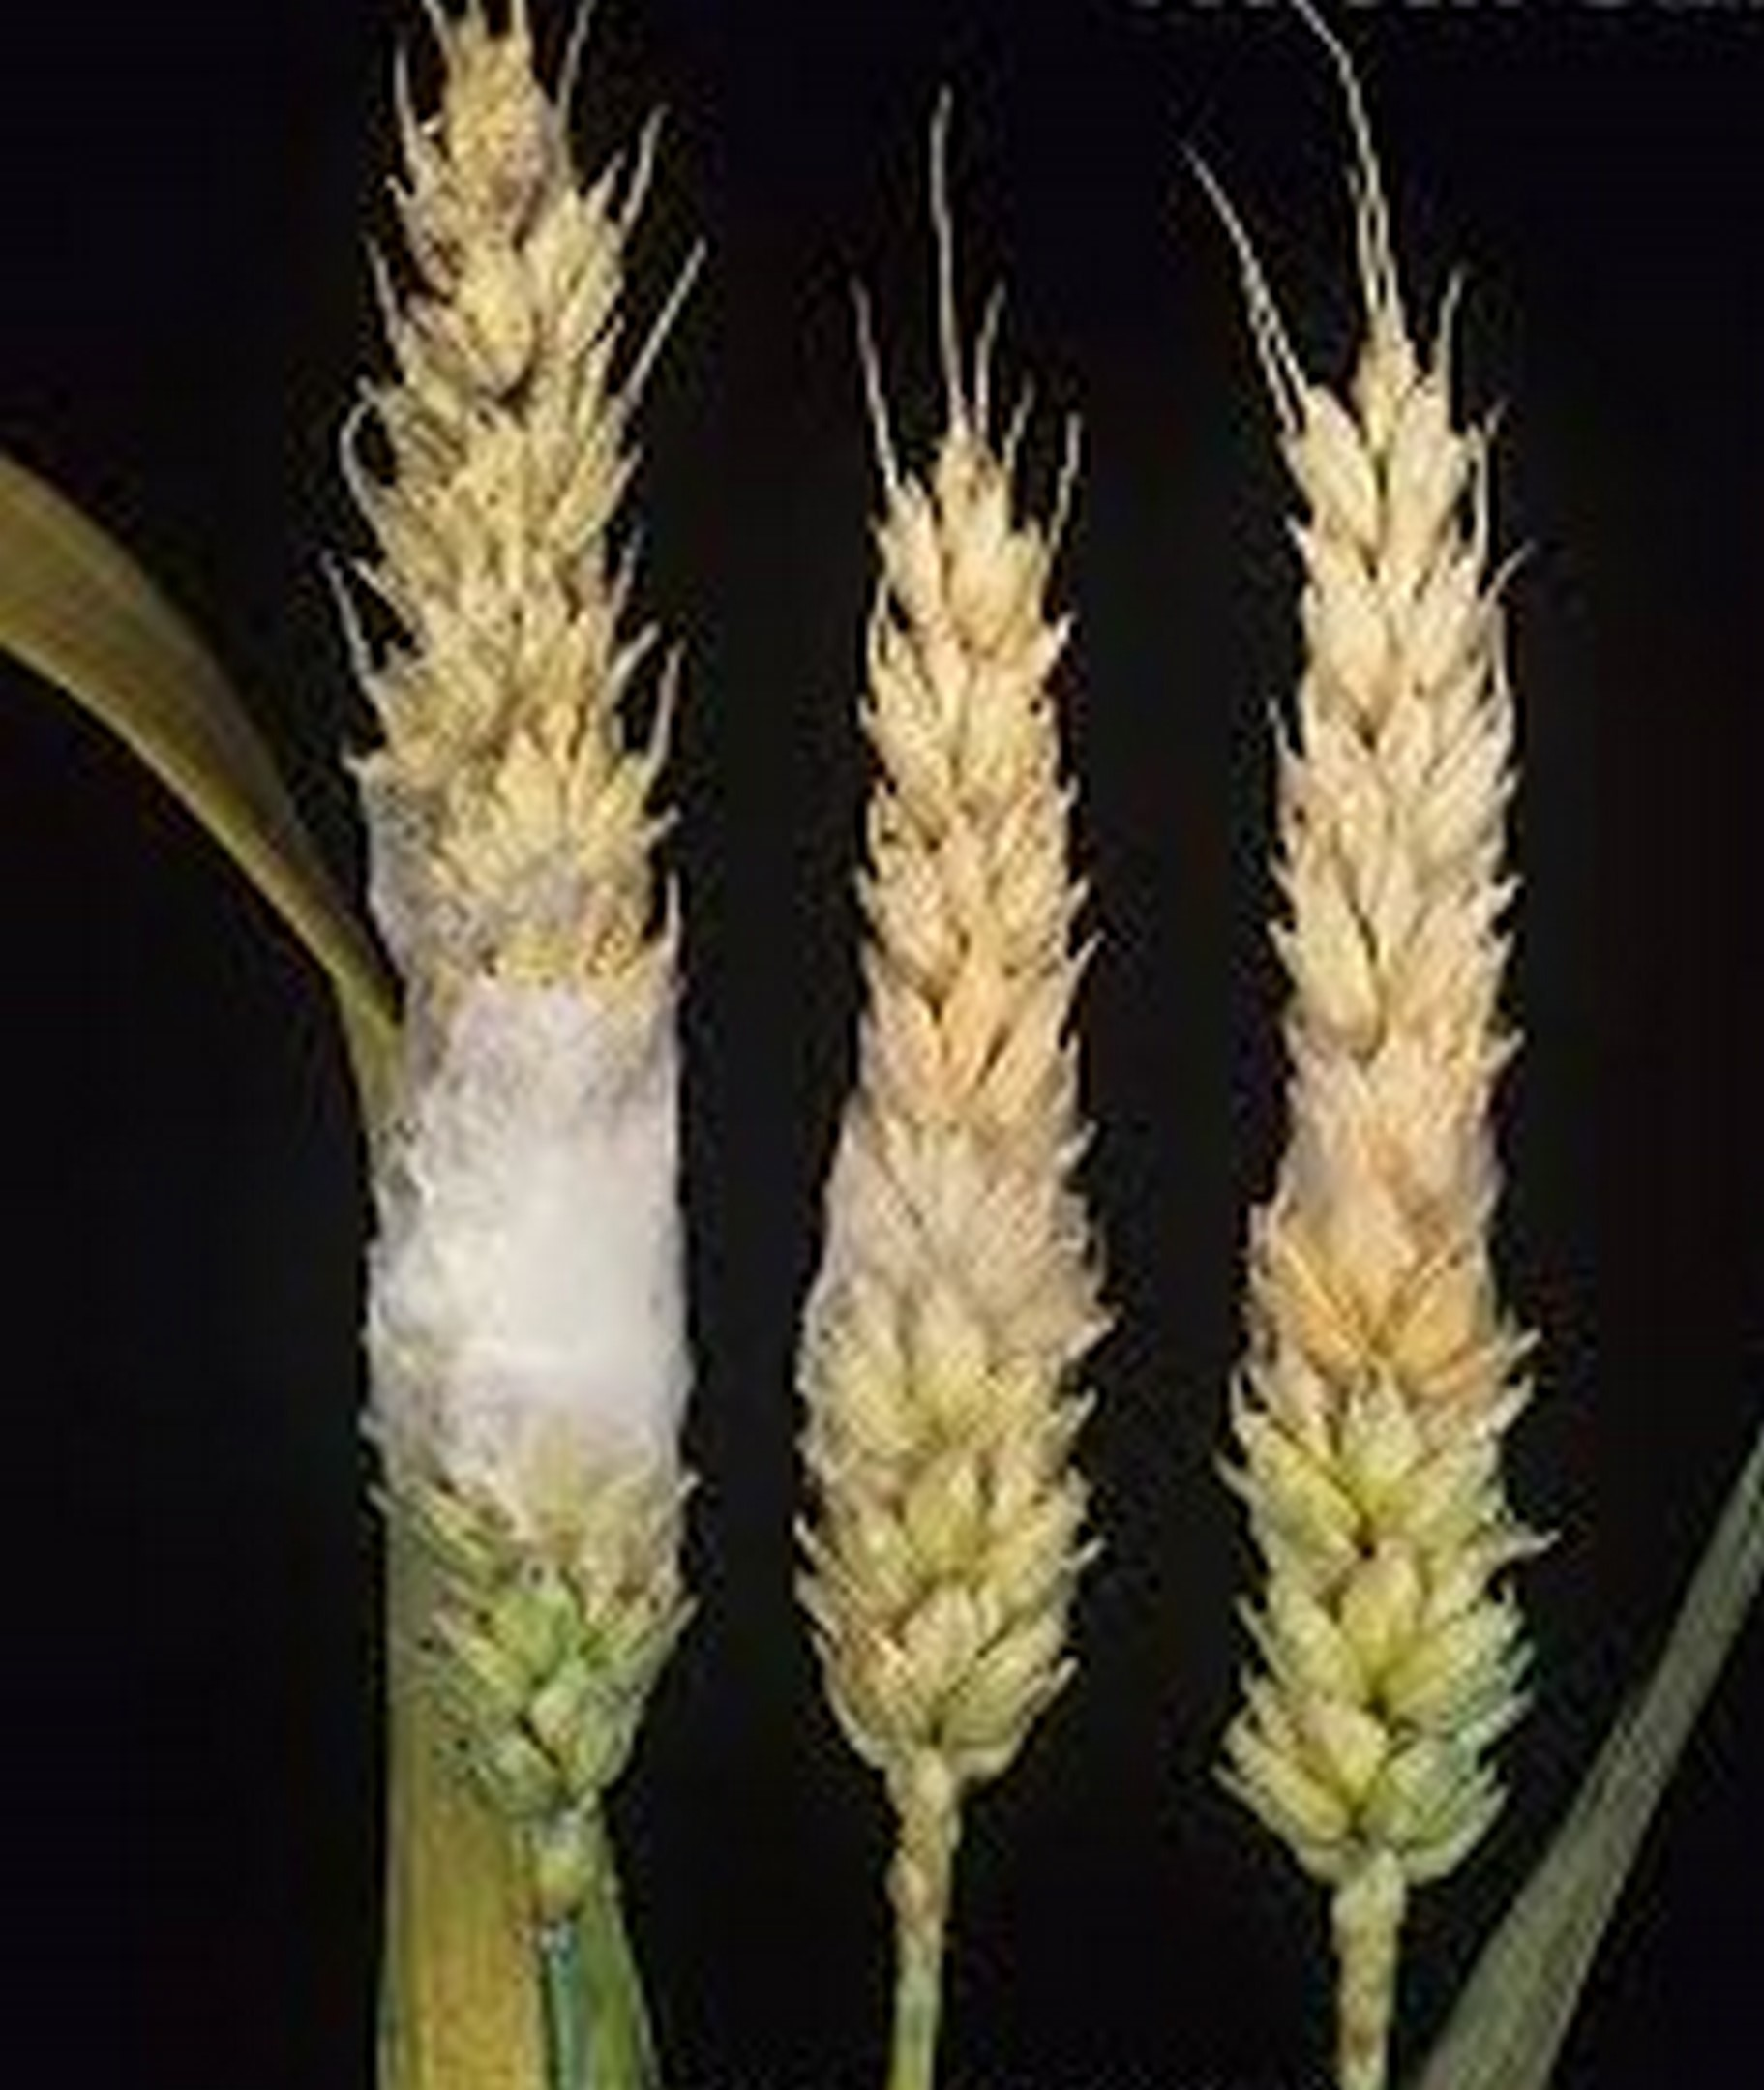Wheat scab: (348, 67, 744, 1826), (1201, 282, 1561, 1896), (791, 341, 1109, 1801)
